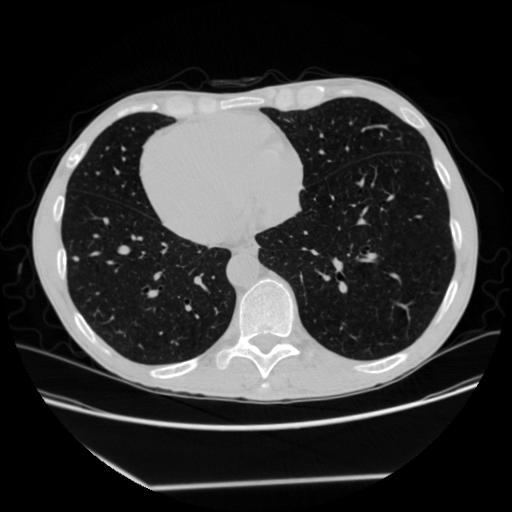nodule: (73, 253, 85, 265)
